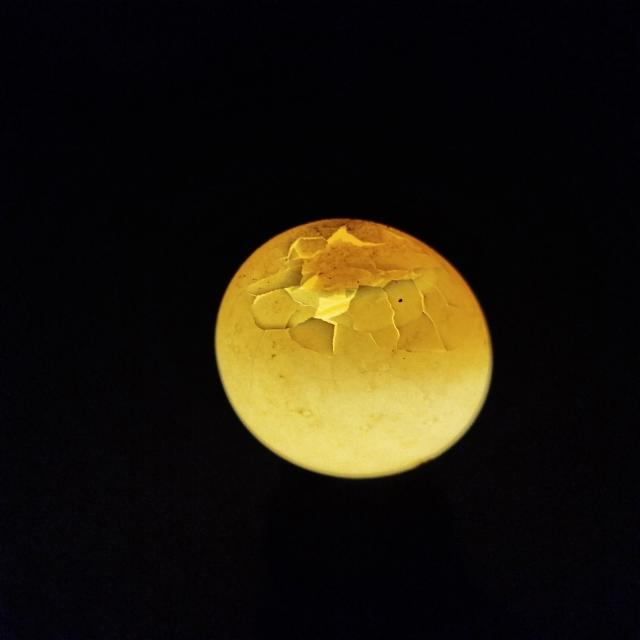Rachadura: (241, 222, 464, 360)
